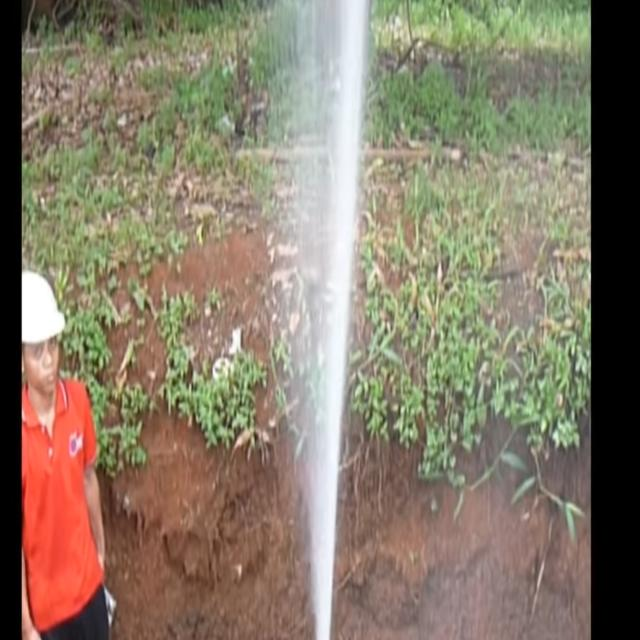leak: (301, 0, 370, 640)
